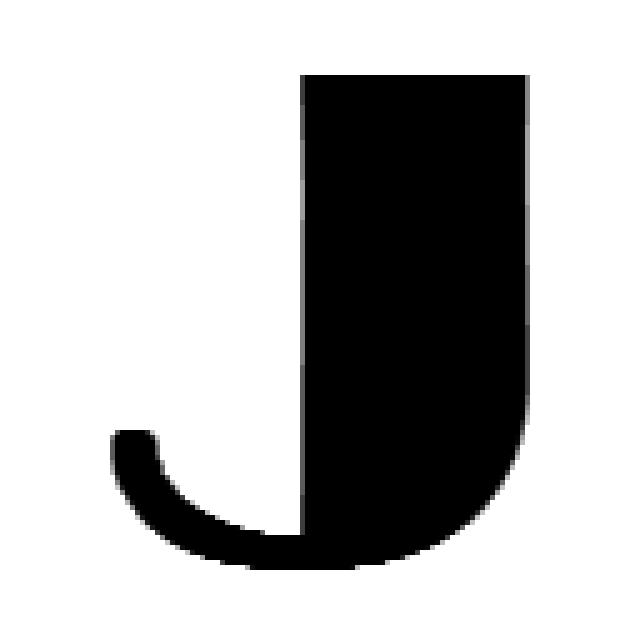J: (100, 65, 535, 575)
